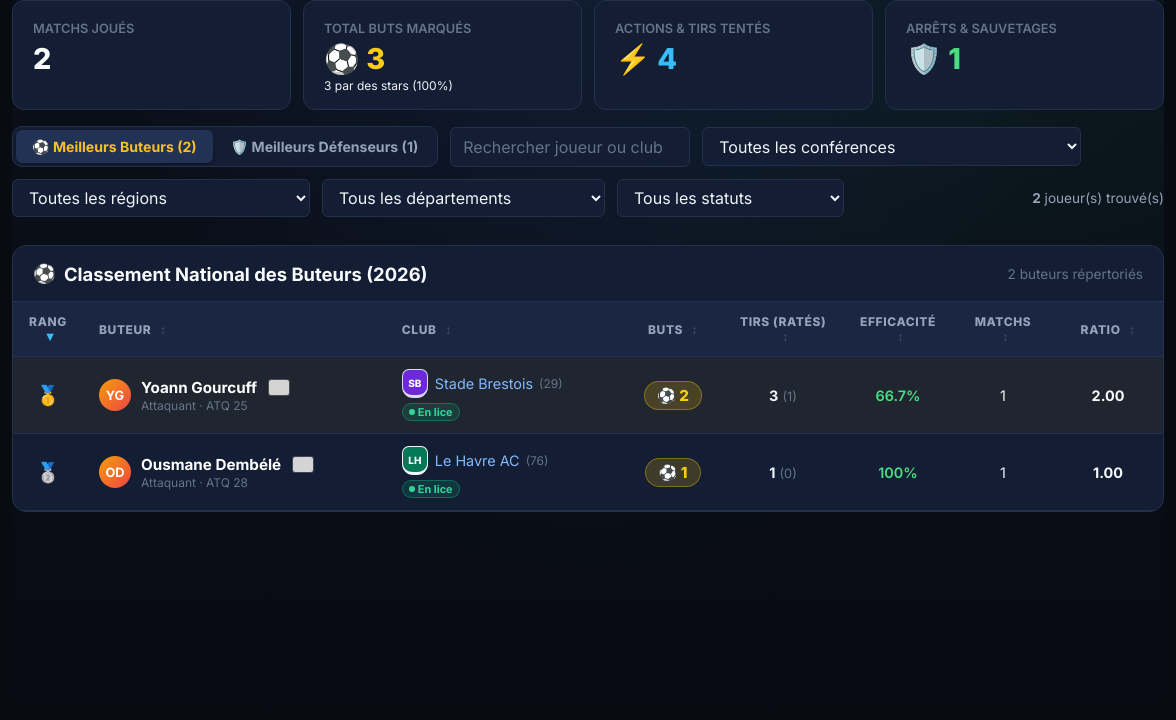
Test: CompetitionStatsView › filters defenders geographically and reflects title for defenders tab
# Switch to defenders tab
Click the button "🛡️ Meilleurs Défenseurs (1)": (324, 146) [215,130,434,163]
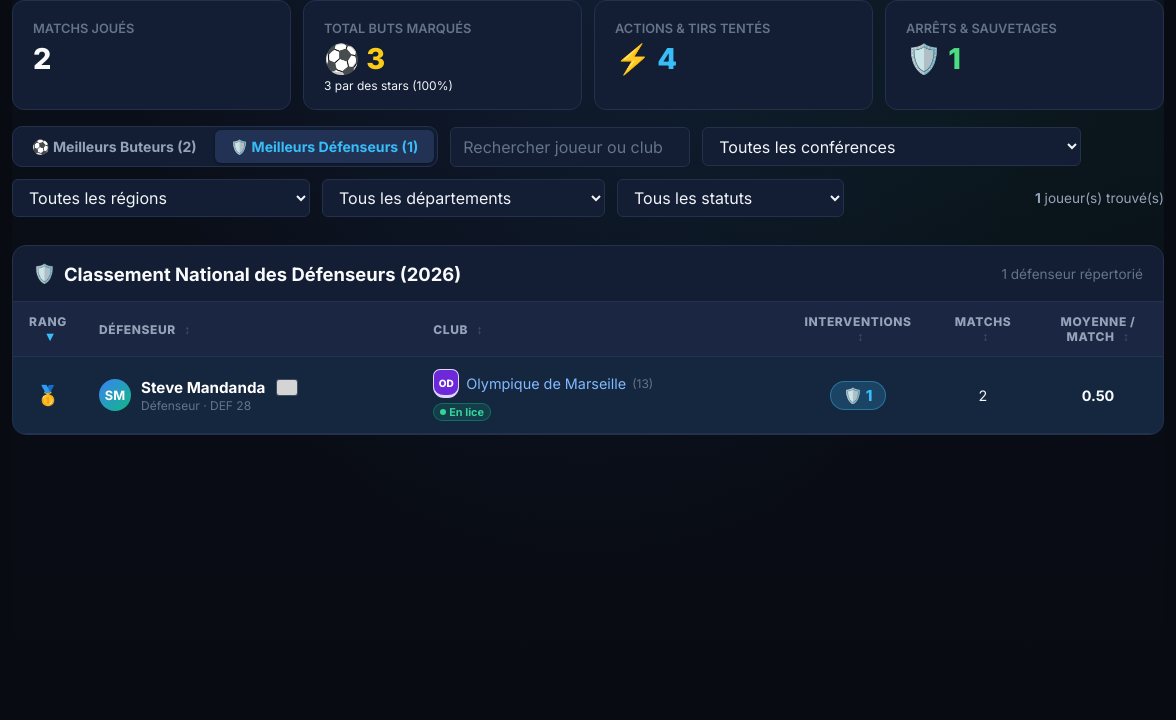
Now the heading "🛡️ Classement National des Défenseurs (2026)" is shown, box [33,262,461,285]
Now the link "Steve Mandanda" is shown, box [141,378,265,397]
Select "Conférence Ouest (Atlantique)" in the dropdown named "Filtrer par conférence": (892, 146) [702,127,1081,166]
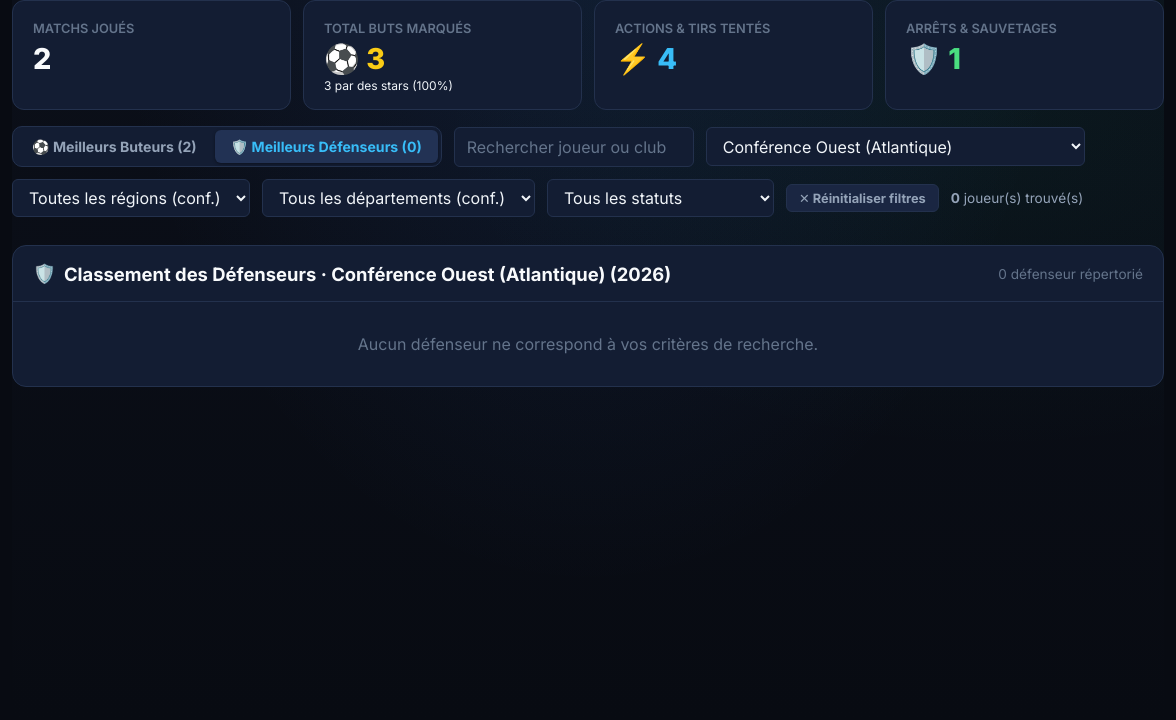
Now the heading "Classement des Défenseurs · Conférence Ouest" is shown, box [64,263,605,285]
Now the link "Steve Mandanda" is gone
Now the text "Aucun défenseur ne correspond à vos critères de recherche." is shown, box [358,334,818,354]
# Switch conference to CONF_SUD_EST
Select "Conférence Sud-Est (Méditerranée & Alpes)" in the dropdown named "Filtrer par conférence": (895, 146) [706,127,1085,166]
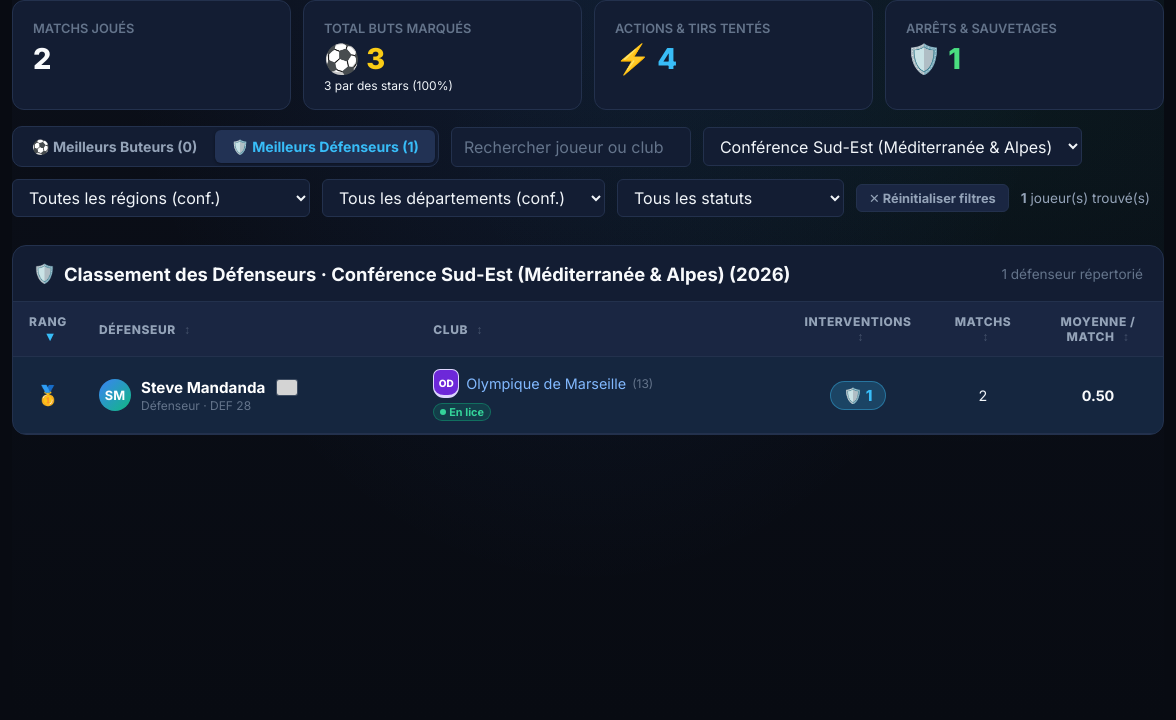
Now the heading "Classement des Défenseurs · Conférence Sud-Est" is shown, box [64,263,725,285]
Now the link "Steve Mandanda" is shown, box [141,378,265,397]
